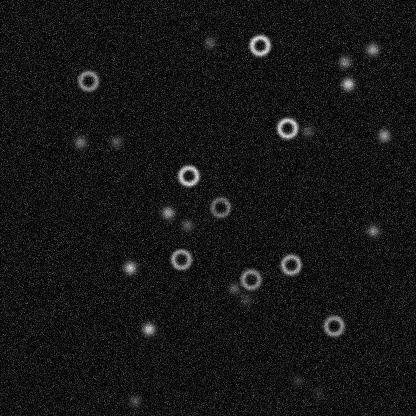Ring: (278, 252, 302, 276), (169, 247, 193, 271), (176, 163, 200, 187), (275, 116, 299, 140), (321, 313, 345, 337), (208, 195, 232, 219), (238, 267, 262, 291), (247, 33, 271, 57), (76, 68, 100, 92)
Spot: (126, 392, 142, 408), (201, 34, 217, 50), (72, 133, 88, 149), (238, 292, 254, 308), (364, 41, 380, 57), (375, 127, 391, 143), (365, 222, 381, 238), (179, 217, 195, 233), (121, 259, 137, 275), (108, 133, 124, 149), (225, 280, 241, 296), (289, 372, 305, 388), (310, 383, 326, 399), (339, 75, 355, 91), (299, 123, 315, 139), (336, 53, 352, 69), (159, 204, 175, 220), (140, 320, 156, 336)
